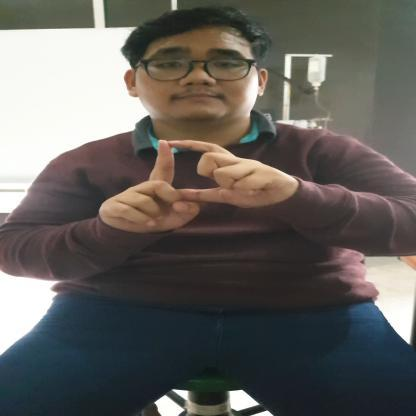D: (98, 140, 288, 232)
